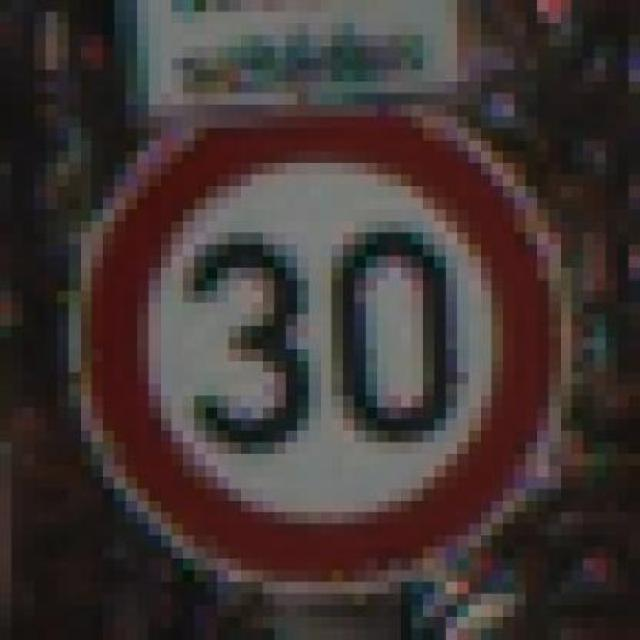Speed Limit 30 KMPh: (34, 117, 606, 617)
